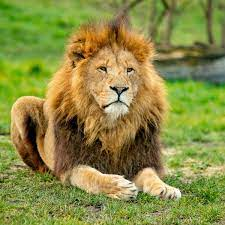lion: (9, 22, 172, 176)
